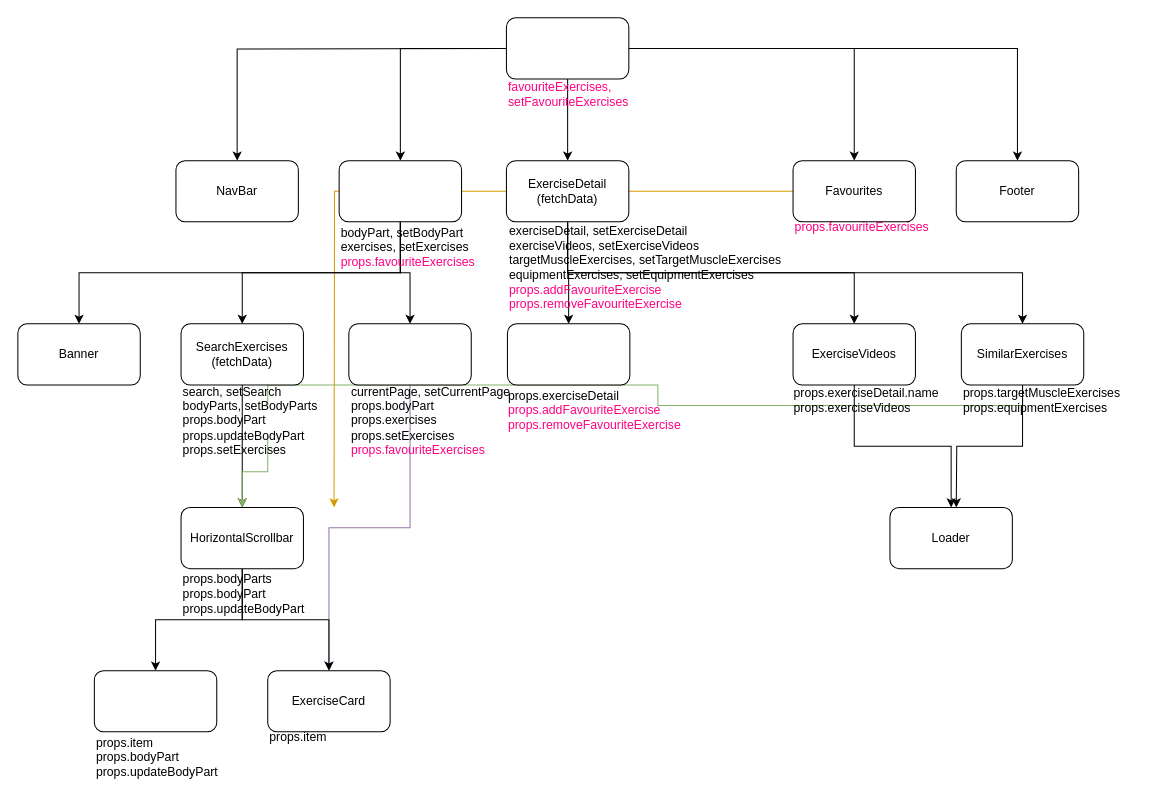
Image size: 1153x801. Some labels were removed from this diagram. Each missing label, with the centre of its shape:
App: the point at 567,48
BodyPart: the point at 155,701
Detail: the point at 568,354
Exercises (fetchData): the point at 409,354
Home: the point at 400,191
